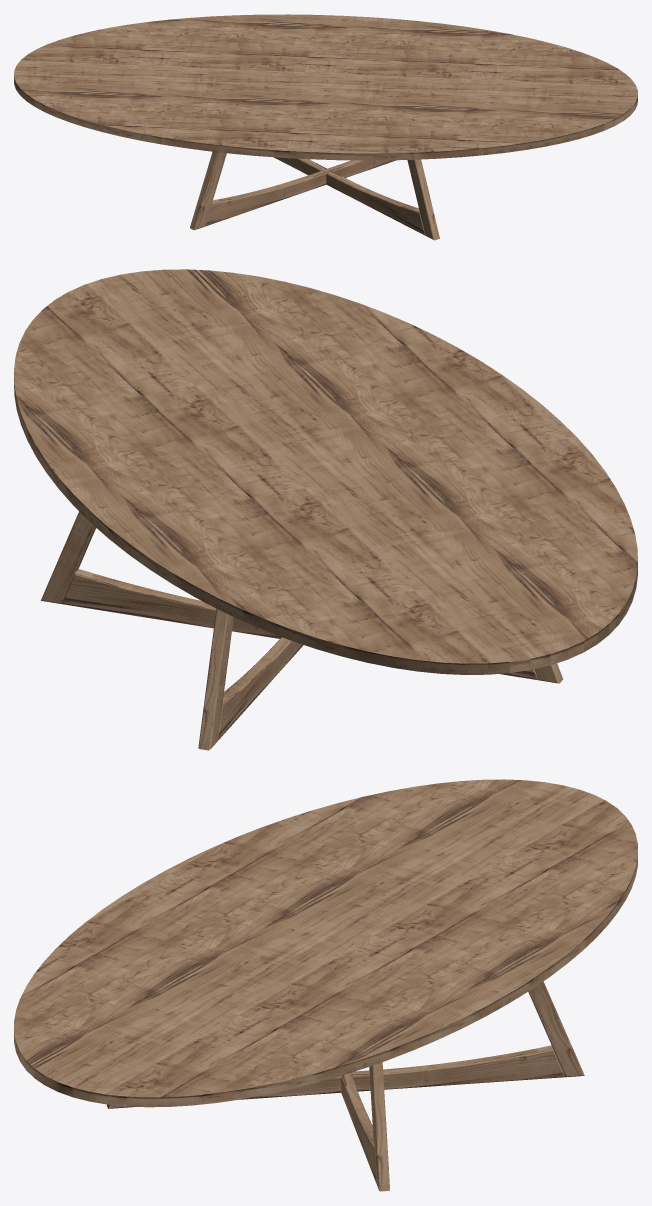
Rendered from 矮长桌.fbx.
The picture shows the model from 3 angles, top to bottom: view 1: azimuth 30°, elevation 25°; view 2: azimuth 150°, elevation 25°; view 3: azimuth 270°, elevation 25°; orthographic projection. The views are drawn at different scales.
Parts seen in each view (by area): view 1: HTop1, Component_12_1, Component_12_3, Component_12_2, Component_12_4; view 2: HTop1, Component_12_2, Component_12_4; view 3: HTop1, Component_12_4, Component_12_2, Component_12_3.
Part boxes in pixels (left/top/right/bottom): HTop1: left=14, top=14, right=637, bottom=160; Component_12_1: left=190, top=151, right=328, bottom=230; Component_12_3: left=324, top=159, right=439, bottom=240; Component_12_2: left=325, top=160, right=395, bottom=177; Component_12_4: left=274, top=157, right=326, bottom=175; HTop1: left=14, top=269, right=637, bottom=674; Component_12_2: left=41, top=511, right=281, bottom=638; Component_12_4: left=198, top=608, right=303, bottom=750; HTop1: left=14, top=779, right=637, bottom=1107; Component_12_4: left=347, top=981, right=584, bottom=1091; Component_12_2: left=341, top=1062, right=389, bottom=1191; Component_12_3: left=106, top=1076, right=341, bottom=1108.
Size of the model in its own units: 1246 by 268 by 1033.
